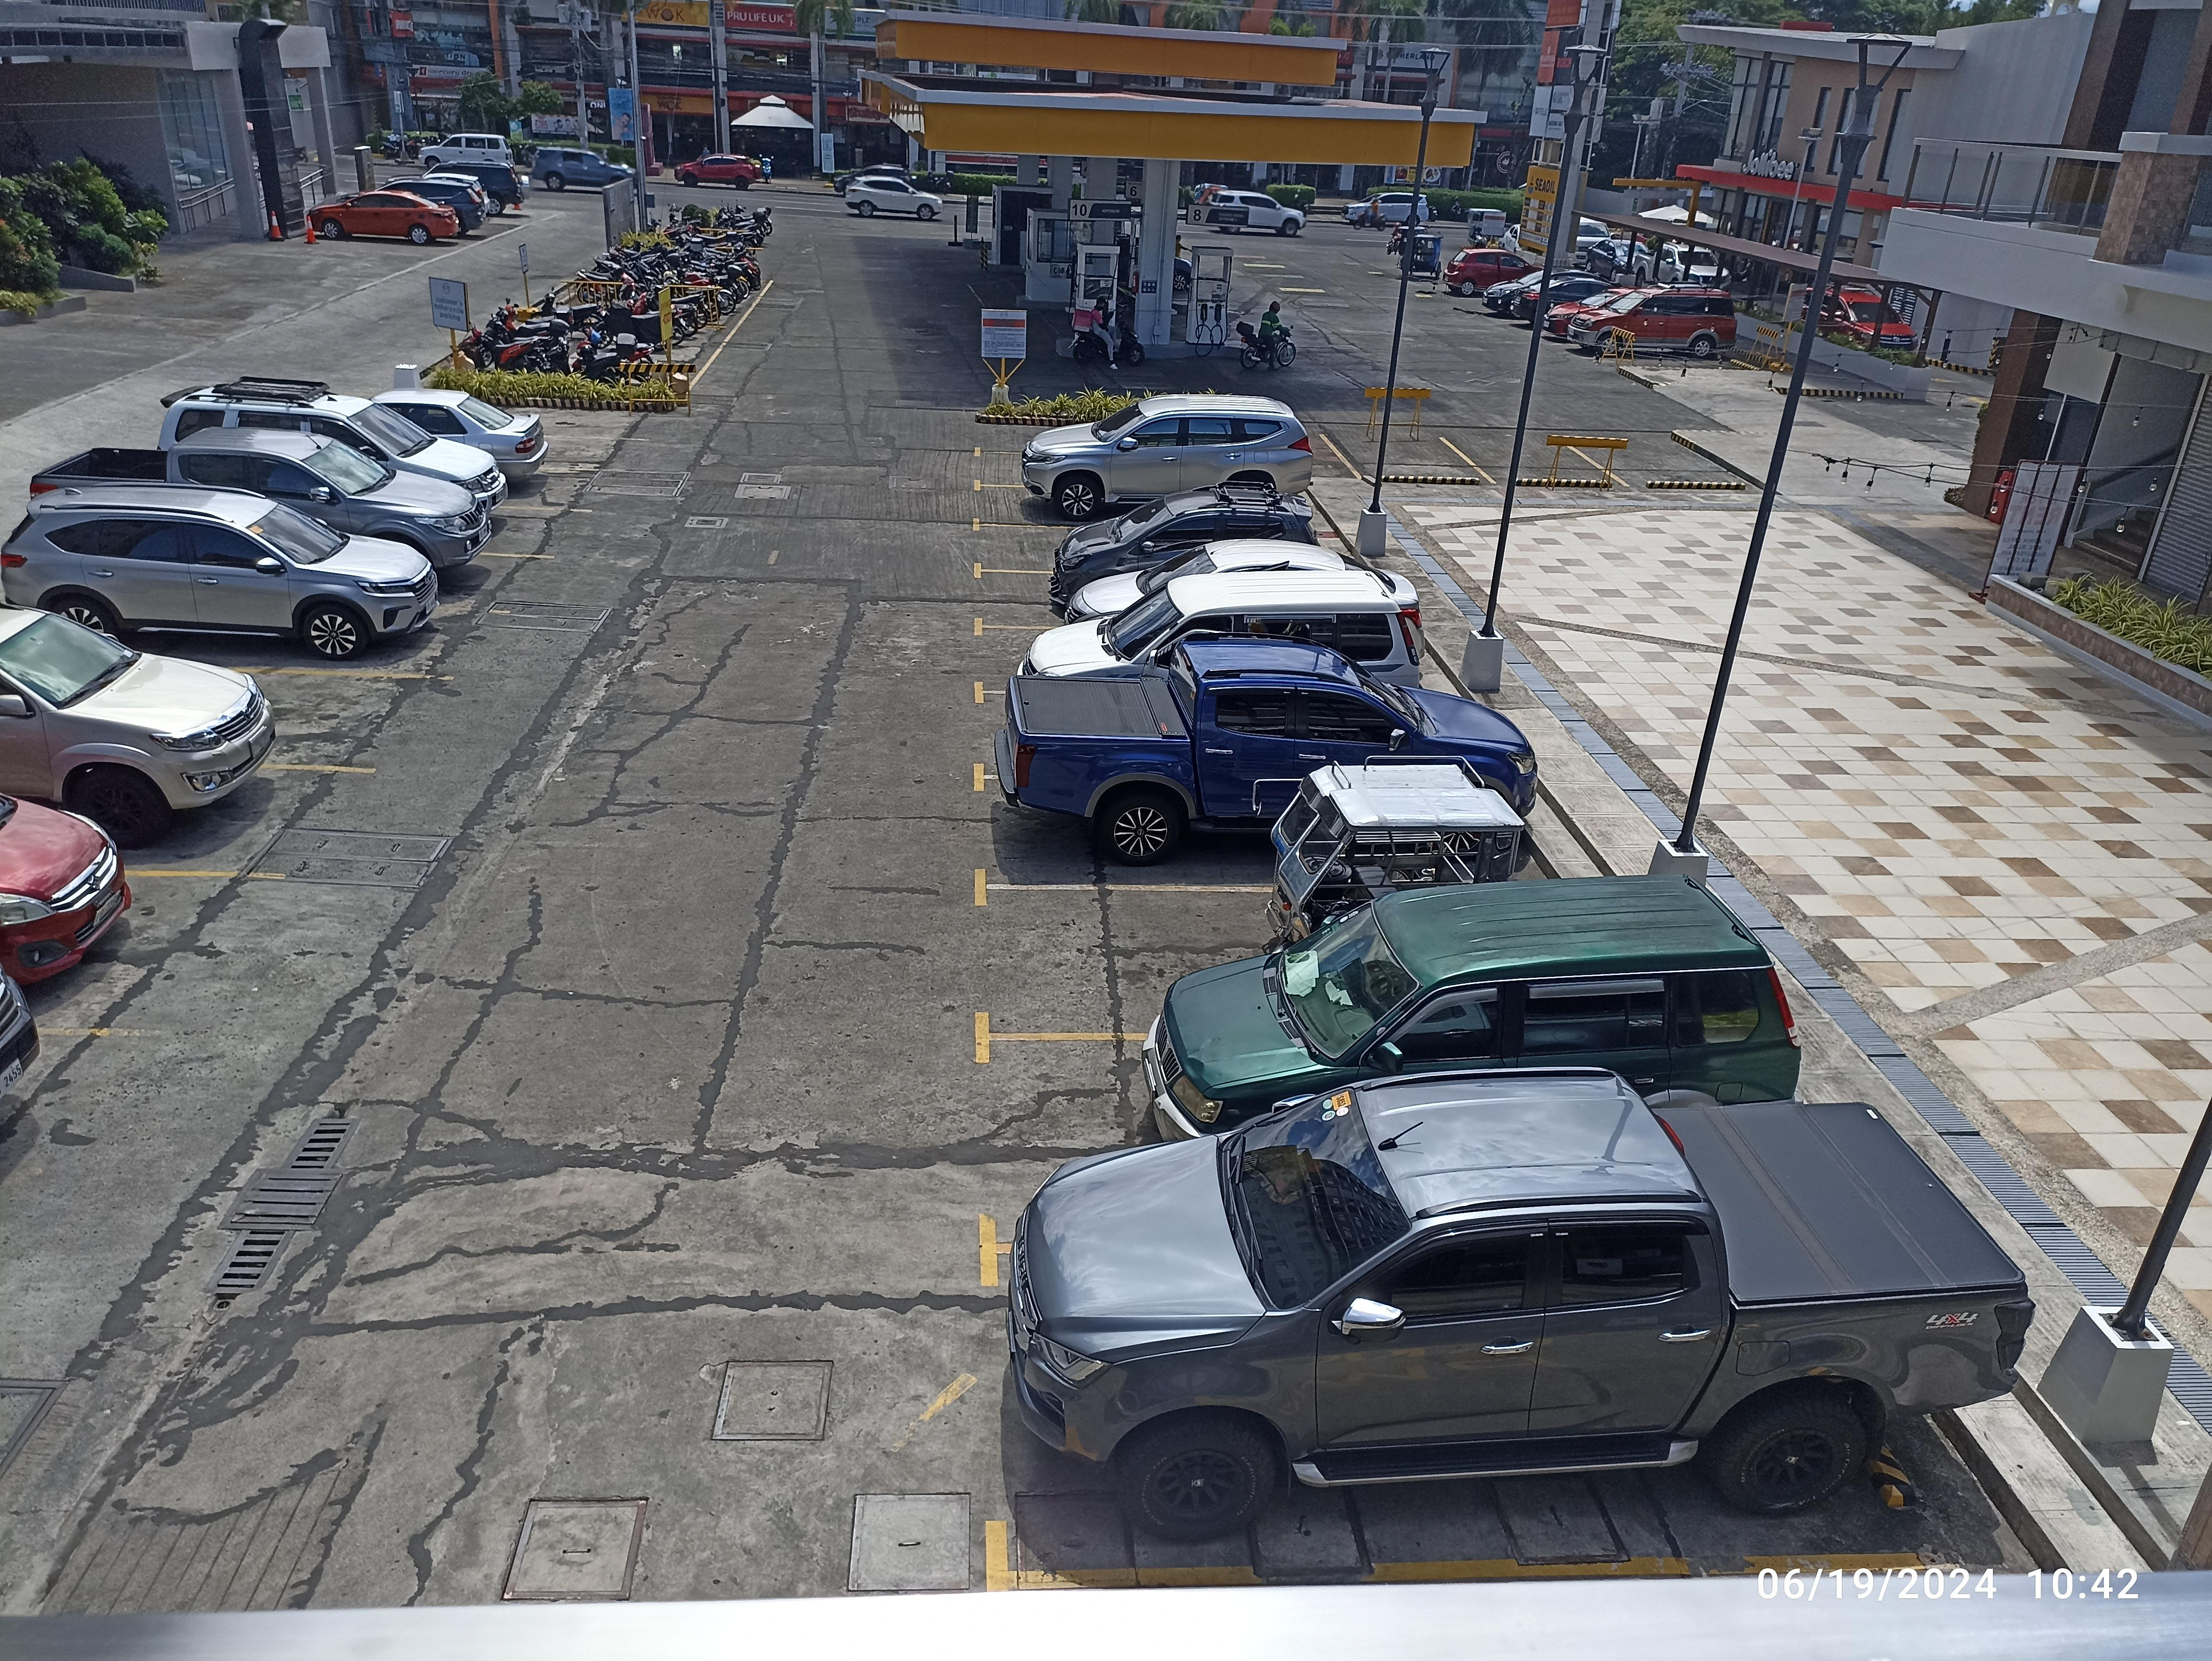occupied: (979, 1197, 2067, 1589), (972, 1014, 1832, 1265), (972, 872, 1654, 1047)
vacant: (1443, 438, 1626, 485), (1322, 436, 1492, 482)
